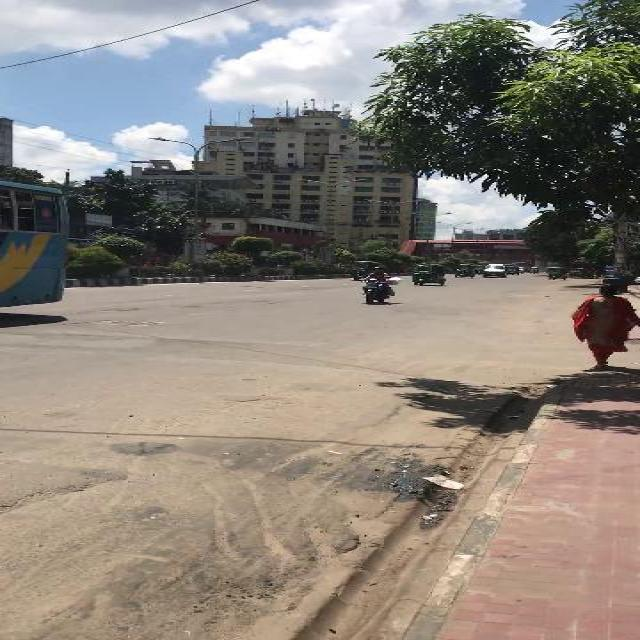bus: (0, 176, 68, 312)
minivan: (479, 262, 506, 278)
motorbike: (356, 266, 402, 304)
three wheelers -CNG-: (412, 262, 446, 286), (348, 260, 381, 280), (453, 262, 475, 278), (547, 266, 566, 280), (507, 266, 517, 274)
